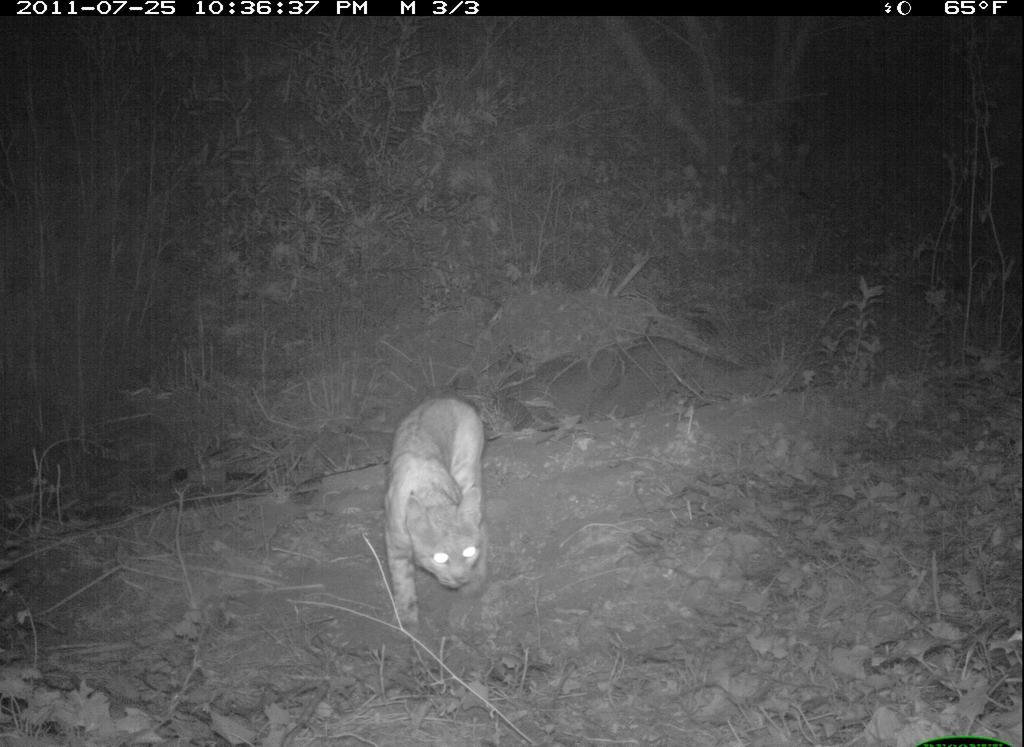bobcat: (374, 390, 506, 629)
